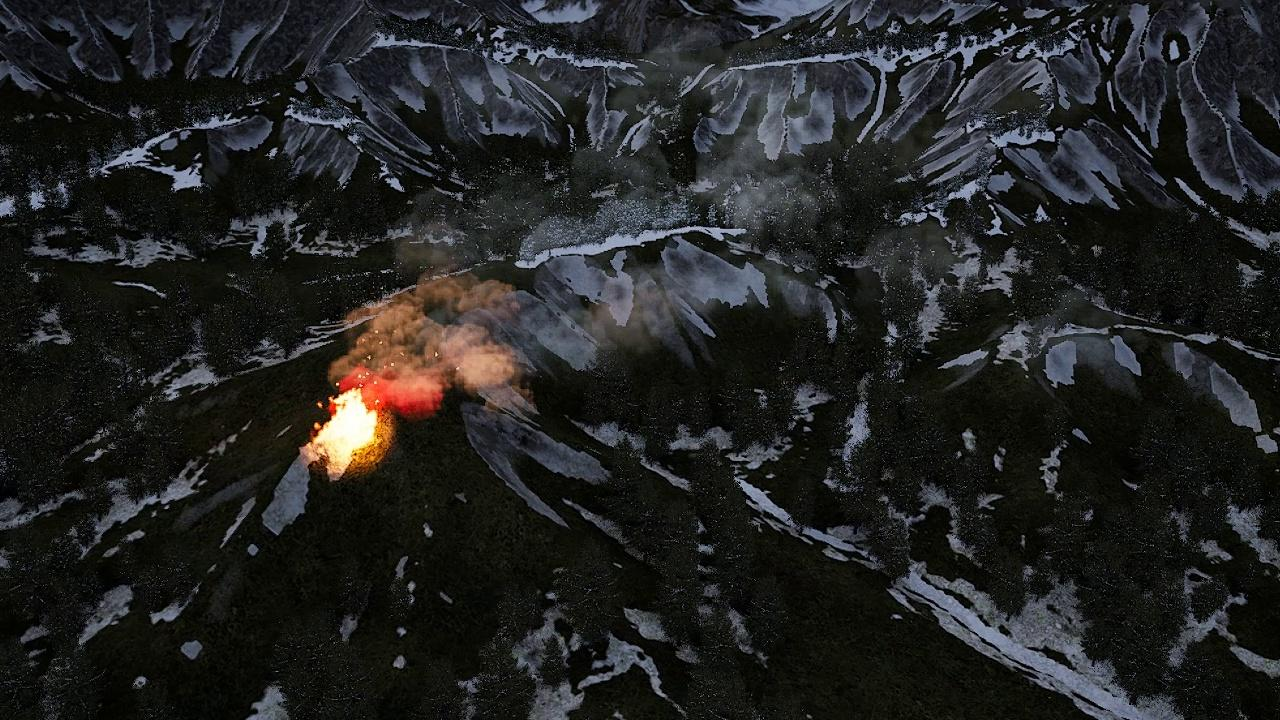fire: (305, 386, 382, 468)
smoke: (332, 21, 957, 411)
